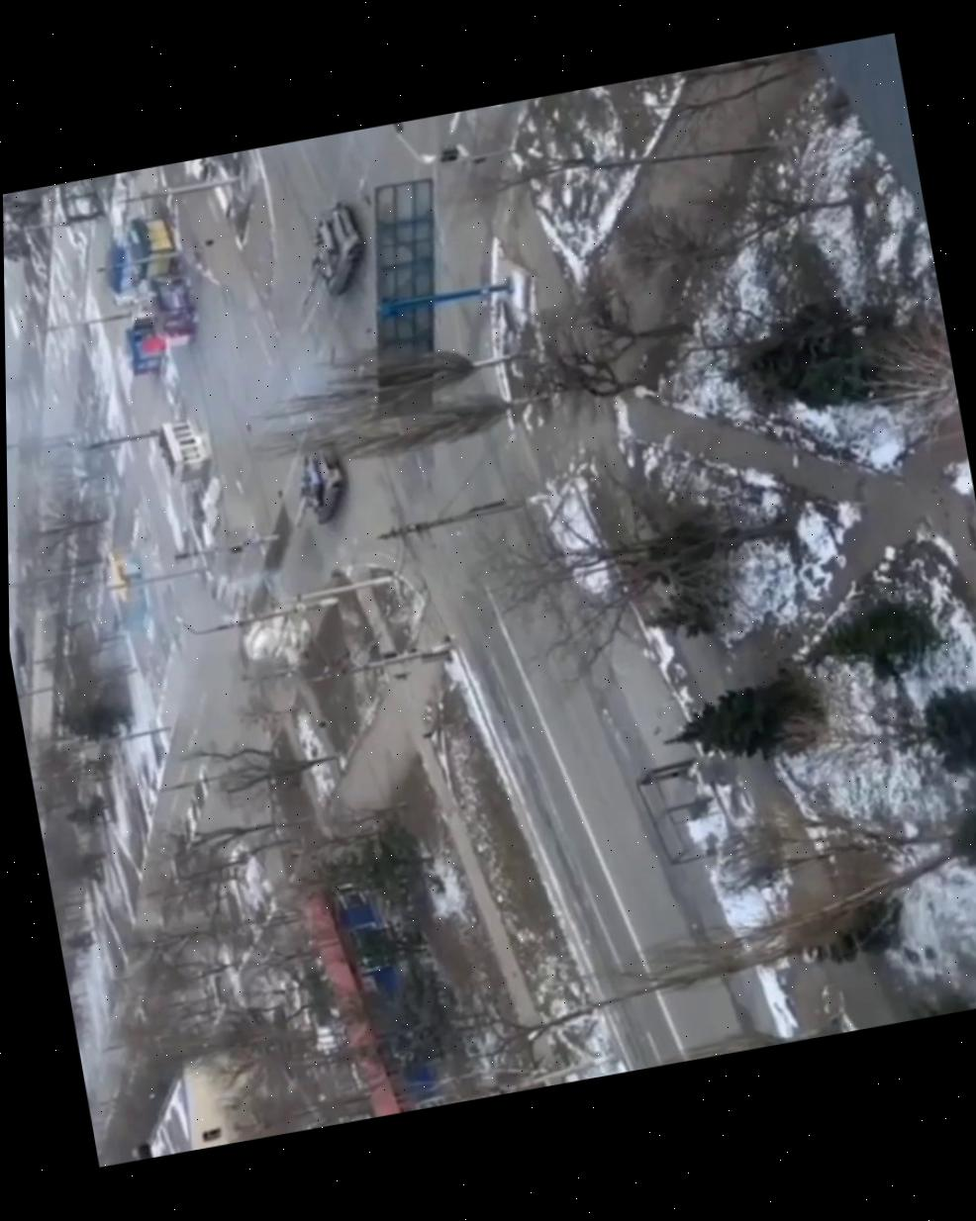tank: (285, 200, 373, 309), (280, 440, 351, 530)
